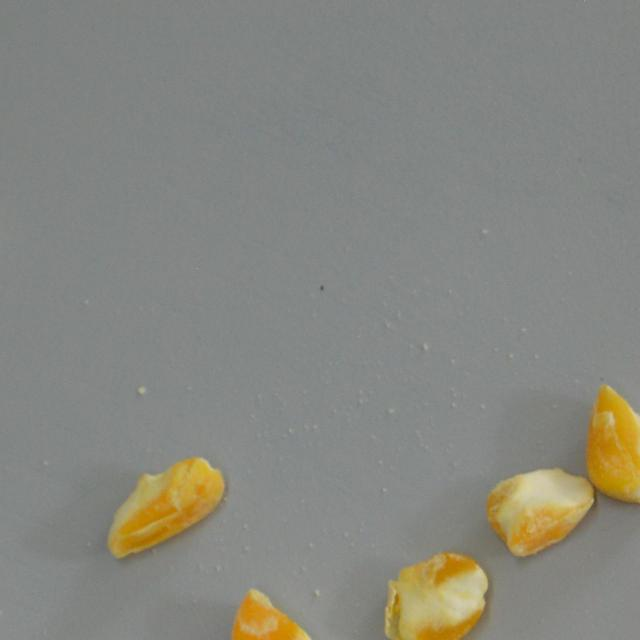dañado: (100, 453, 230, 560), (484, 458, 598, 558), (378, 546, 494, 640), (582, 382, 640, 510), (227, 581, 336, 640)
